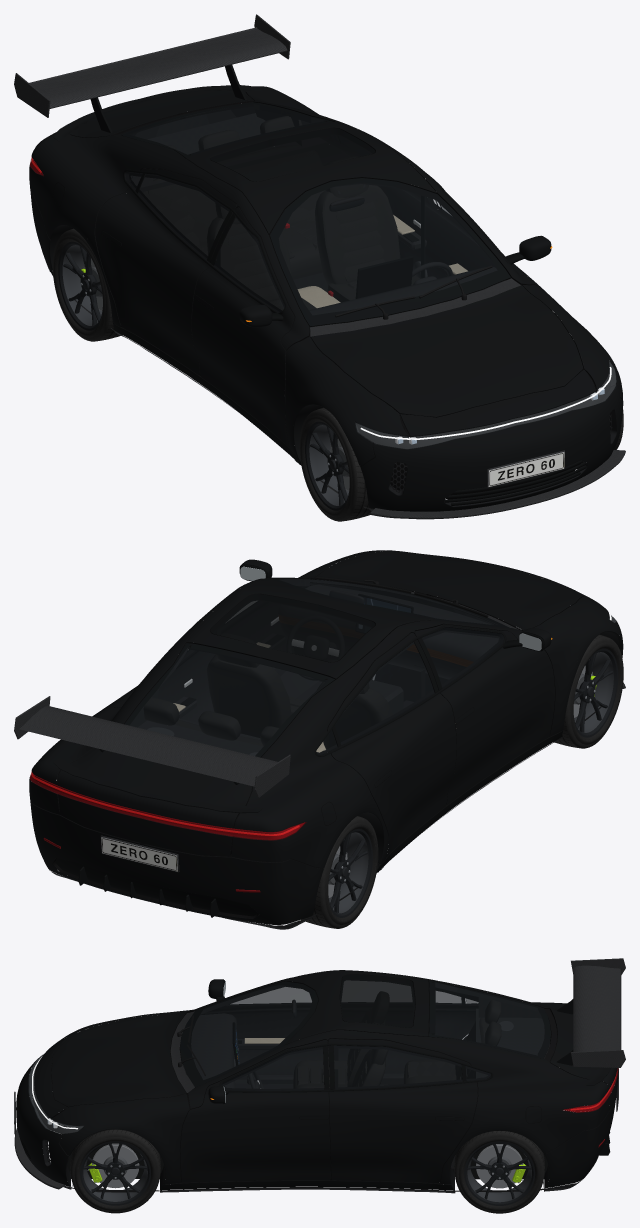
The model's file is electric-super-gt.glb.
The picture shows the model from 3 angles, top to bottom: view 1: azimuth 30°, elevation 25°; view 2: azimuth 150°, elevation 25°; view 3: azimuth 270°, elevation 25°; orthographic projection. The views are drawn at different scales.
Parts seen in each view (by area): view 1: Body, Wheel_FR, Wheel_RR; view 2: Body, Wheel_RR, Wheel_FR, Steering_Wheel; view 3: Body, Wheel_FL, Wheel_RL.
Part boxes in pixels (x1,y1,x2,y2): Body: (14, 14, 625, 519); Wheel_FR: (299, 407, 374, 521); Wheel_RR: (52, 228, 121, 341); Body: (14, 550, 625, 929); Wheel_RR: (301, 816, 378, 928); Wheel_FR: (553, 634, 623, 748); Steering_Wheel: (287, 616, 344, 680); Body: (14, 958, 625, 1193); Wheel_FL: (70, 1129, 160, 1213); Wheel_RL: (454, 1131, 544, 1213).
Bounding box in the file's own units: 2.1 × 1.4 × 4.65.
60 materials, 14 textured.
